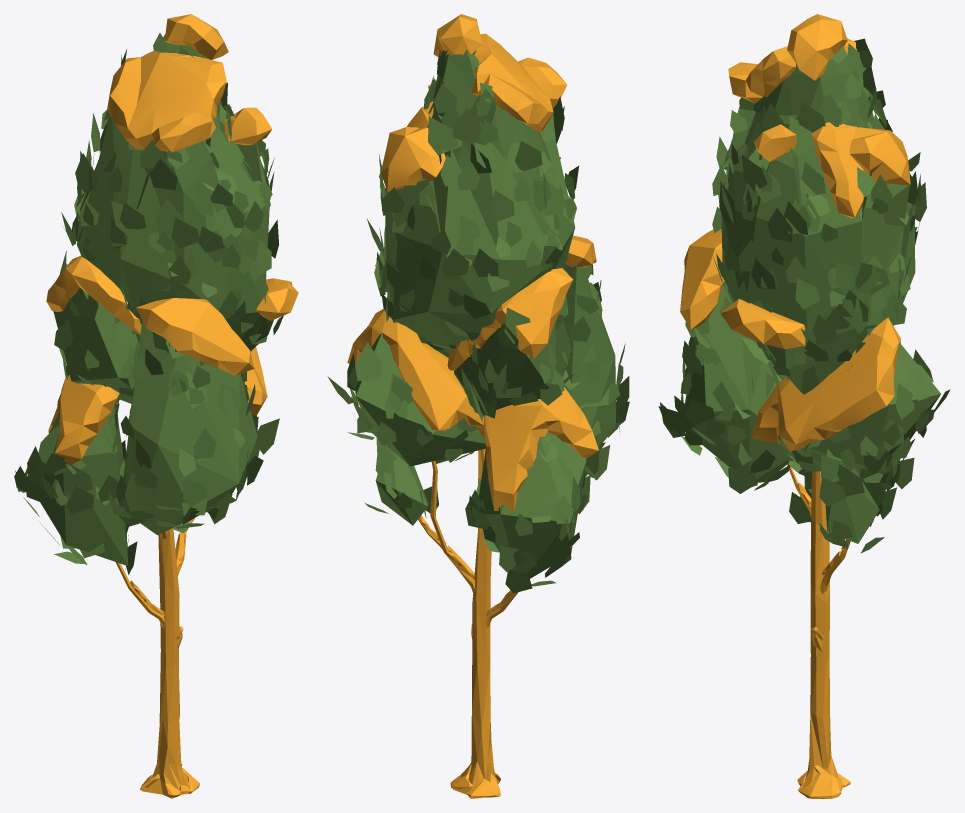
The model's file is SM_Tree_Poplar_Mature_A_Snow.fbx.
3 renders of one model, left to right at view 1: azimuth 30°, elevation 25°; view 2: azimuth 150°, elevation 25°; view 3: azimuth 270°, elevation 25°, orthographic.
Visible parts, largest first — view 1: tree-poplar-mature-a-snow; view 2: tree-poplar-mature-a-snow; view 3: tree-poplar-mature-a-snow.
Boxes of the visible parts, left/top/right/bottom form: tree-poplar-mature-a-snow: left=14, top=14, right=298, bottom=798; tree-poplar-mature-a-snow: left=327, top=14, right=629, bottom=798; tree-poplar-mature-a-snow: left=658, top=14, right=950, bottom=798.
Size of the model in its own units: 4.98 by 15.75 by 5.35.
